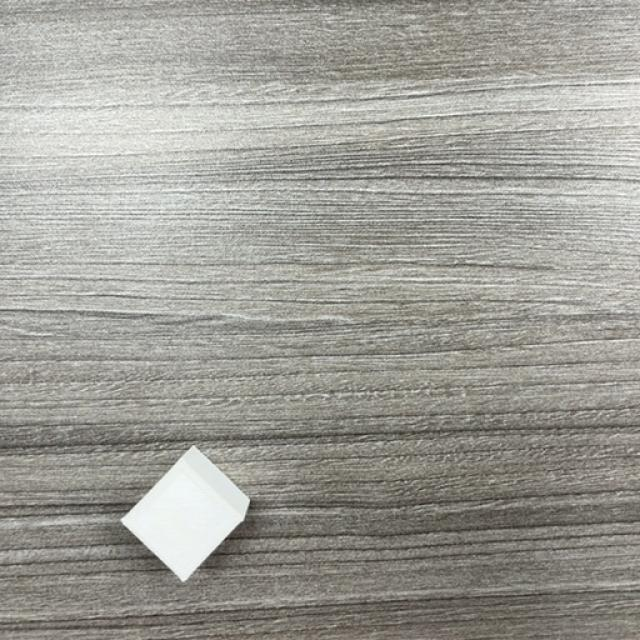Blanco: (120, 448, 251, 584)
